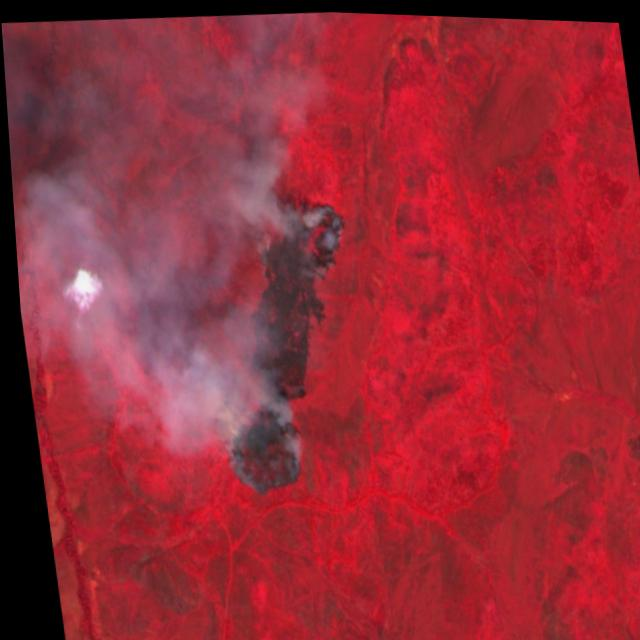fire: (176, 179, 379, 508)
